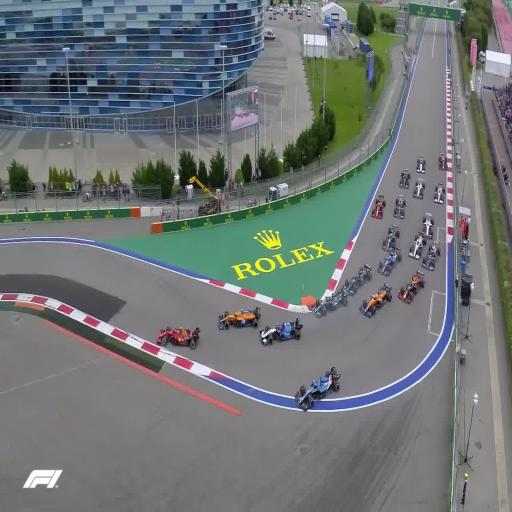f1_car: (295, 366, 340, 410), (259, 317, 303, 346), (311, 286, 349, 317), (359, 283, 391, 317), (157, 326, 200, 348), (218, 307, 260, 329), (398, 270, 425, 303), (378, 247, 402, 276), (422, 240, 440, 270), (409, 232, 426, 259), (382, 224, 399, 251), (355, 262, 371, 285), (422, 212, 434, 239), (372, 195, 386, 218), (343, 275, 358, 295), (394, 194, 406, 218), (413, 178, 425, 199), (434, 182, 445, 203), (399, 169, 410, 188), (416, 156, 426, 173), (438, 153, 447, 170)
